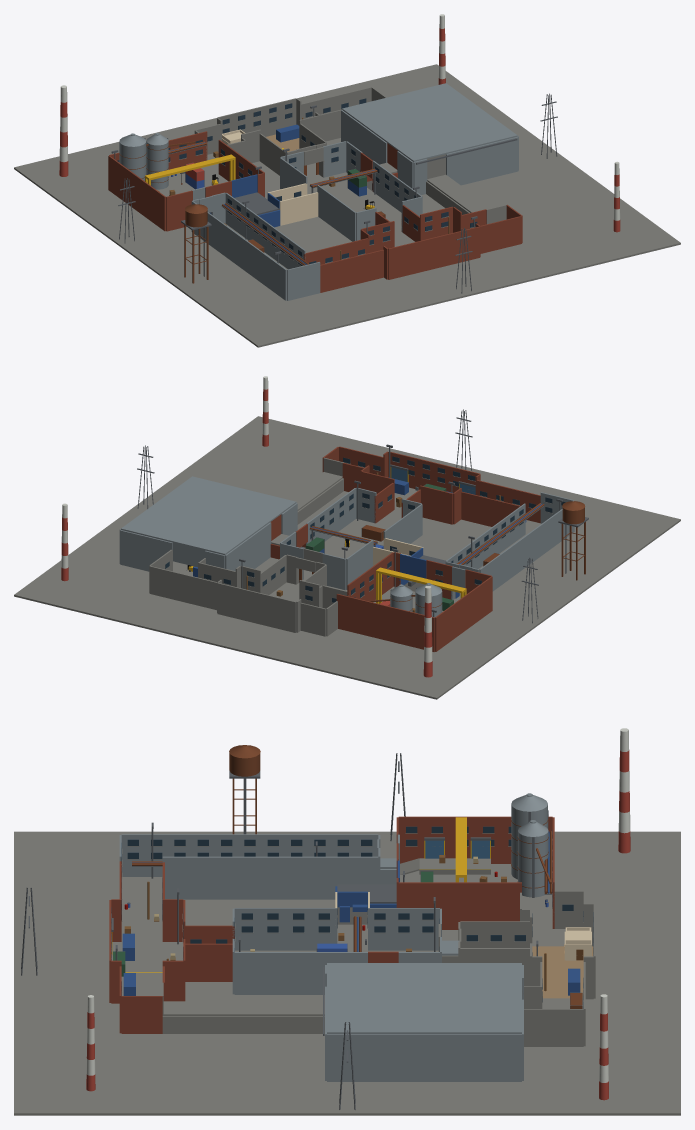
The model's file is factory.glb.
3 renders of one model, top to bottom at view 1: azimuth 30°, elevation 25°; view 2: azimuth 150°, elevation 25°; view 3: azimuth 270°, elevation 25°, orthographic. The views are drawn at different scales.
Parts seen in each view (by area): view 1: Ground1, Ceiling5, RoomWall5, RoomWall34, RoomWall66, RoomWall41, RoomWall32, RoomWall38, RoomWall25, Floor3, RoomWall61, RoomWall11 (+22 smaller); view 2: Ground1, Ceiling5, RoomWall42, RoomWall25, RoomWall34, RoomWall41, RoomWall54, RoomWall5, RoomWall64, RoomWall38, RoomWall61, RoomWall30 (+21 smaller); view 3: Ground1, Ceiling5, RoomWall67, RoomWall38, RoomWall34, RoomWall46, RoomWall17, RoomWall11, RoomWall41, RoomWall60, RoomWall10, Ceiling4 (+21 smaller).
Boxes of the visible parts, left/top/right/bottom form: Ground1: left=14, top=64, right=680, bottom=347; Ceiling5: left=342, top=83, right=517, bottom=161; RoomWall5: left=388, top=226, right=480, bottom=279; RoomWall34: left=191, top=201, right=286, bottom=300; RoomWall66: left=446, top=137, right=518, bottom=185; RoomWall41: left=108, top=155, right=165, bottom=231; RoomWall32: left=320, top=249, right=383, bottom=292; RoomWall38: left=225, top=193, right=305, bottom=269; RoomWall25: left=217, top=98, right=296, bottom=136; Floor3: left=307, top=172, right=401, bottom=233; RoomWall61: left=341, top=110, right=387, bottom=164; RoomWall11: left=317, top=185, right=356, bottom=241; Ground1: left=14, top=416, right=680, bottom=699; Ceiling5: left=121, top=476, right=296, bottom=555; RoomWall42: left=336, top=594, right=434, bottom=651; RoomWall25: left=217, top=583, right=296, bottom=632; RoomWall34: left=479, top=500, right=574, bottom=591; RoomWall41: left=435, top=576, right=492, bottom=651; RoomWall54: left=149, top=566, right=216, bottom=610; RoomWall5: left=388, top=451, right=479, bottom=492; RoomWall64: left=120, top=530, right=172, bottom=571; RoomWall38: left=445, top=503, right=525, bottom=568; RoomWall61: left=225, top=522, right=271, bottom=571; RoomWall30: left=461, top=491, right=520, bottom=526; Ground1: left=14, top=831, right=680, bottom=1115; Ceiling5: left=327, top=963, right=521, bottom=1034; RoomWall67: left=327, top=1034, right=521, bottom=1081; RoomWall38: left=162, top=856, right=378, bottom=899; RoomWall34: left=121, top=834, right=378, bottom=876; RoomWall46: left=398, top=882, right=521, bottom=929; RoomWall17: left=234, top=952, right=367, bottom=994; RoomWall11: left=234, top=908, right=337, bottom=950; RoomWall41: left=398, top=816, right=552, bottom=863; RoomWall60: left=162, top=1016, right=324, bottom=1033; RoomWall10: left=368, top=908, right=439, bottom=950; Ceiling4: left=162, top=1001, right=324, bottom=1016.
Size of the model in its own units: 130 by 30 by 130.
